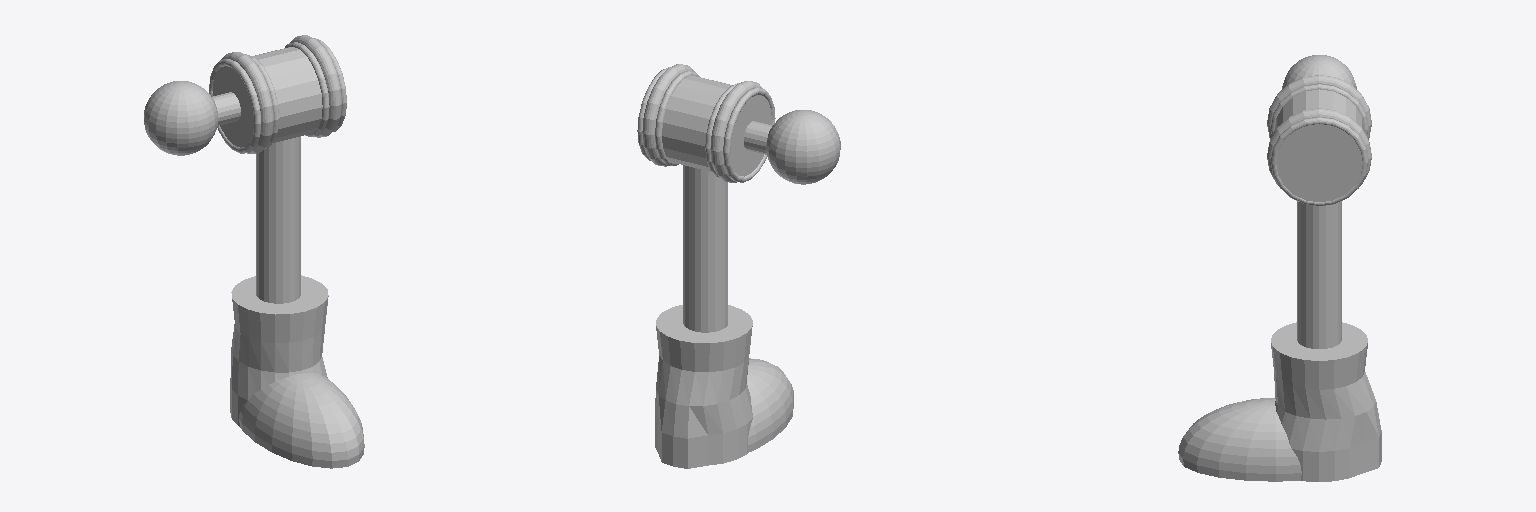
The model's file is CylinderBotLeftLeg.obj.
3 views of the same model, side by side, from view 1: azimuth 30°, elevation 25°; view 2: azimuth 150°, elevation 25°; view 3: azimuth 270°, elevation 25° (orthographic).
Parts seen in each view (by area): view 1: polySurface21 polySurface28; view 2: polySurface21 polySurface28; view 3: polySurface21 polySurface28.
Part boxes in pixels (x1,y1,x2,y2): polySurface21 polySurface28: (144,35,364,468); polySurface21 polySurface28: (637,64,840,468); polySurface21 polySurface28: (1178,55,1381,481).
Size of the model in its own units: 5.4 by 10.82 by 5.41.